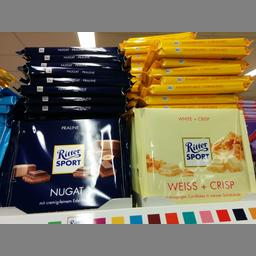chocolate: (128, 106, 250, 202), (12, 114, 130, 210)
